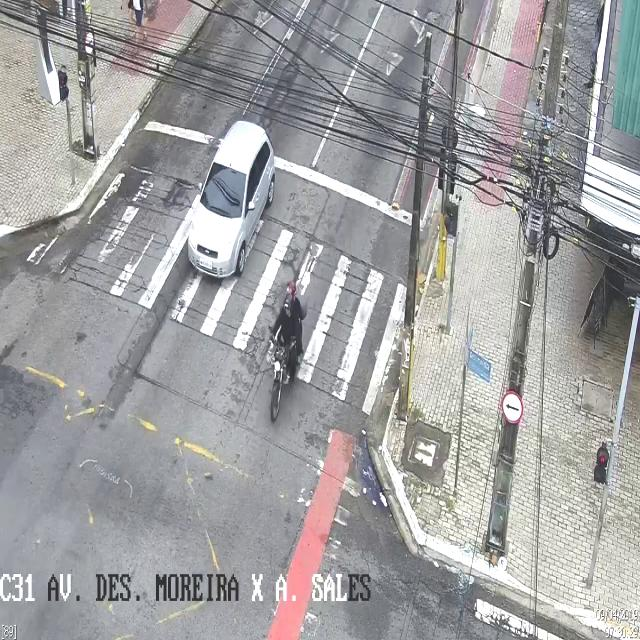Car: (187, 120, 275, 281)
Motorcycle: (268, 280, 308, 423)
